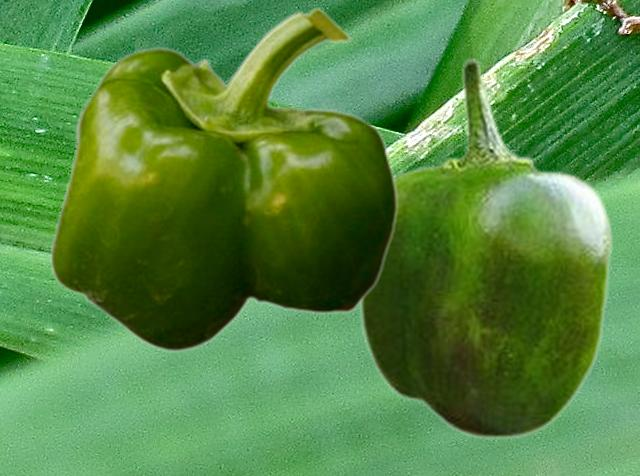bell_pepper: (49, 7, 397, 352), (356, 57, 613, 440)
